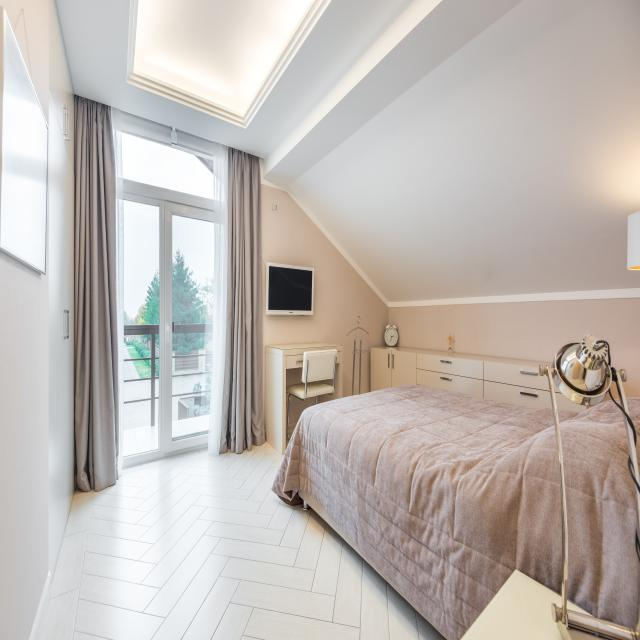floor: (31, 440, 448, 640)
wall: (288, 0, 640, 302), (260, 178, 389, 431), (389, 288, 640, 397), (265, 262, 320, 339), (259, 157, 263, 184)
